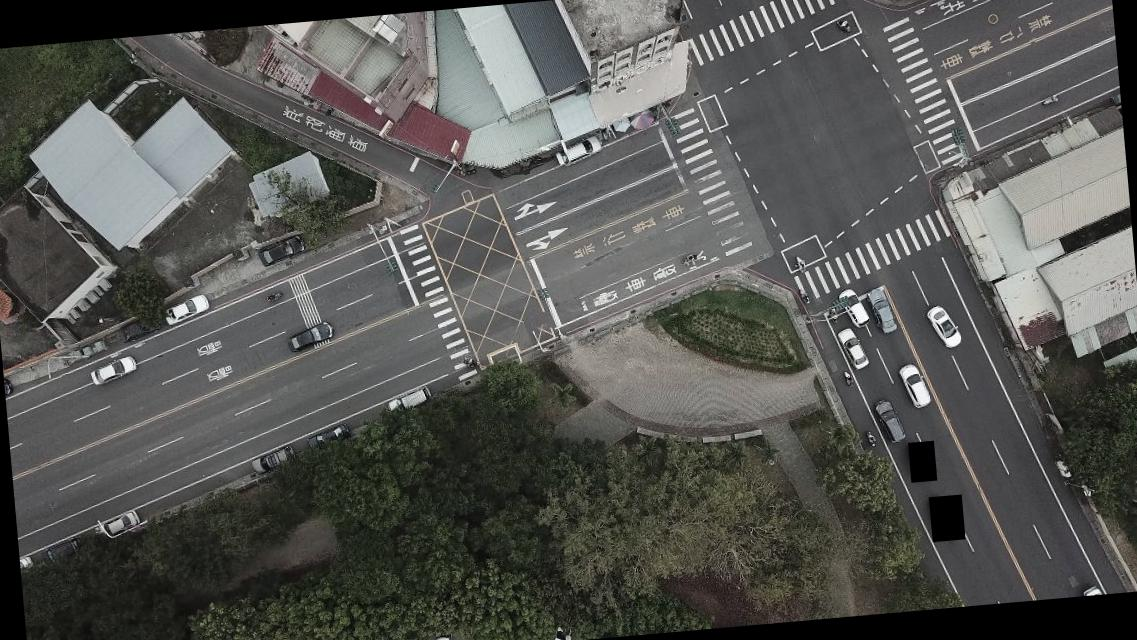vehicle: (924, 302, 963, 351), (551, 132, 604, 168), (896, 361, 932, 412), (85, 354, 140, 387), (162, 293, 212, 327), (254, 235, 307, 267), (866, 286, 898, 338), (284, 322, 336, 354), (836, 324, 870, 370), (89, 510, 141, 540), (873, 396, 905, 444), (38, 535, 85, 567), (247, 446, 297, 476), (382, 386, 431, 416), (304, 424, 350, 454), (114, 314, 162, 342), (838, 288, 870, 328), (433, 632, 454, 639)
